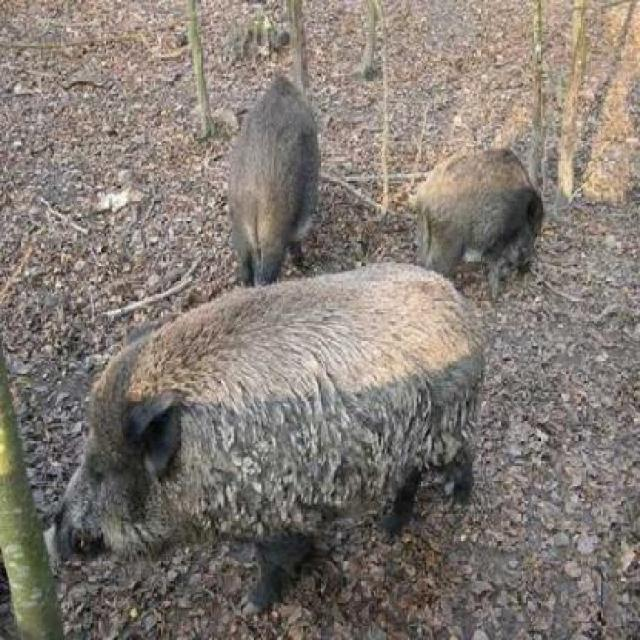pig: (0, 246, 635, 626), (157, 7, 370, 255), (394, 117, 631, 332)
